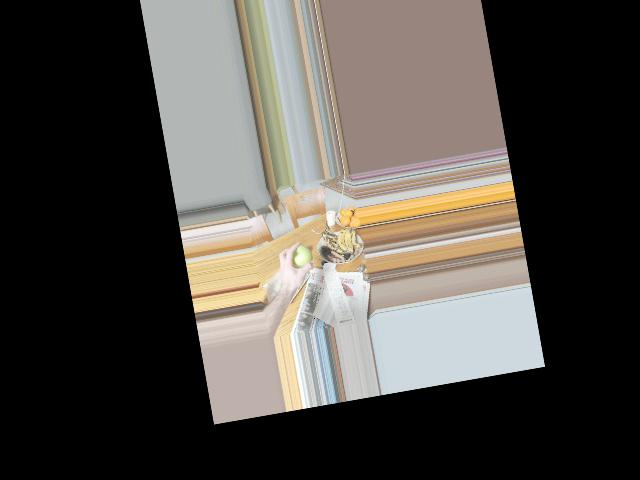apple: (286, 241, 314, 271)
